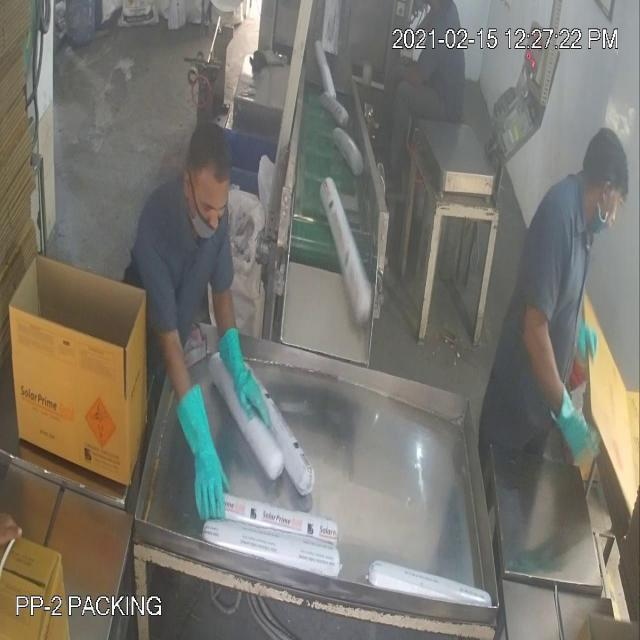Gloves: (60, 44, 576, 448)
